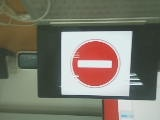stop: (52, 28, 138, 98)
